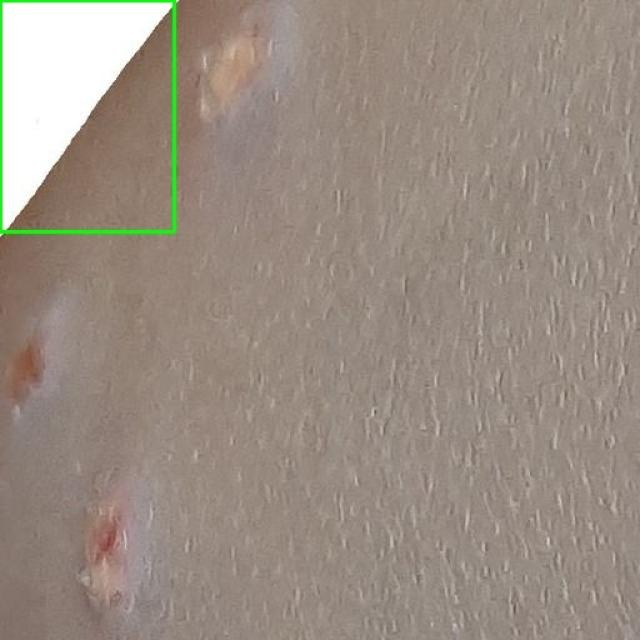Eczema: (0, 0, 174, 231)
